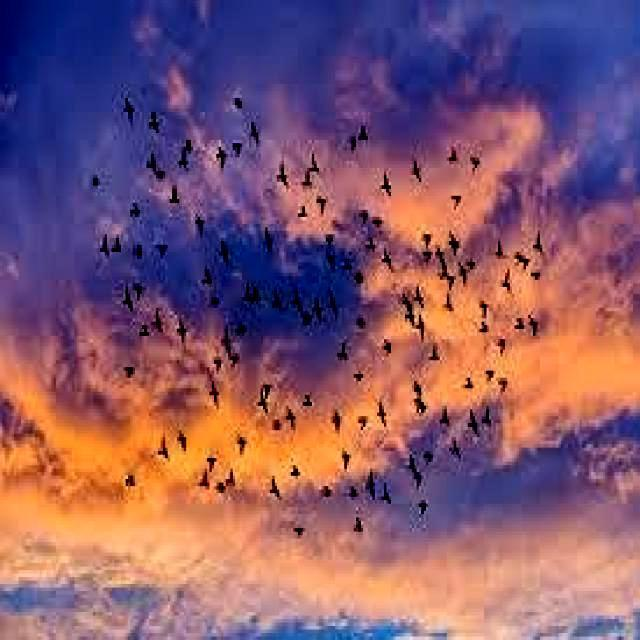bird: (145, 142, 173, 192), (236, 272, 263, 314), (428, 250, 458, 287), (204, 372, 228, 418), (338, 475, 368, 509), (525, 224, 551, 262), (328, 338, 356, 373), (325, 282, 346, 328), (445, 432, 470, 469), (94, 228, 118, 266), (308, 292, 332, 330), (464, 404, 486, 445), (244, 115, 266, 155), (258, 222, 280, 262), (495, 264, 520, 299), (214, 318, 236, 357), (420, 338, 448, 368), (121, 467, 148, 498), (325, 405, 347, 443), (171, 426, 198, 456), (262, 472, 288, 503), (250, 384, 273, 419), (410, 278, 431, 316), (444, 226, 466, 262), (488, 232, 514, 262), (268, 285, 290, 320), (375, 245, 399, 277), (404, 372, 428, 404), (211, 140, 234, 173), (288, 276, 306, 318), (406, 394, 431, 424), (468, 146, 490, 180), (348, 512, 374, 540), (444, 188, 472, 214), (149, 305, 169, 341), (416, 495, 441, 523), (174, 144, 198, 173), (193, 465, 214, 498), (342, 130, 363, 161), (375, 334, 396, 365), (195, 262, 220, 288), (316, 480, 340, 507), (380, 478, 400, 510), (234, 432, 256, 461), (414, 309, 431, 346), (262, 412, 290, 434), (458, 369, 484, 392), (276, 154, 294, 187), (119, 359, 141, 386), (282, 404, 300, 437), (322, 244, 340, 277), (525, 308, 545, 337), (454, 256, 472, 288), (438, 400, 456, 432), (515, 246, 534, 276), (193, 209, 210, 242), (294, 198, 314, 226), (341, 442, 357, 477), (364, 468, 380, 503), (495, 332, 513, 363), (125, 197, 144, 226), (290, 518, 311, 544), (439, 285, 455, 319), (314, 188, 332, 218), (229, 92, 251, 116), (224, 348, 246, 372), (153, 431, 170, 462), (285, 462, 306, 487), (306, 152, 326, 178), (90, 168, 109, 195), (147, 106, 164, 136), (355, 202, 376, 226), (398, 288, 416, 316), (528, 260, 546, 288), (360, 232, 381, 255), (378, 168, 394, 198), (119, 282, 135, 312), (412, 465, 428, 495), (444, 142, 464, 166), (154, 238, 172, 264), (300, 389, 318, 415), (419, 442, 437, 468), (351, 366, 369, 392), (302, 167, 318, 196), (208, 350, 230, 371), (418, 225, 438, 248), (401, 309, 419, 334), (217, 233, 231, 265), (354, 306, 370, 334), (176, 316, 189, 350), (354, 268, 371, 294), (495, 372, 512, 398), (352, 122, 372, 144), (208, 290, 224, 317), (122, 94, 136, 124), (410, 156, 424, 186), (376, 396, 389, 428), (320, 230, 343, 248), (214, 472, 226, 506), (474, 298, 494, 318), (478, 369, 504, 384), (372, 212, 388, 236), (355, 412, 373, 432), (225, 464, 238, 491), (478, 314, 492, 338), (509, 312, 527, 330), (230, 138, 244, 160), (418, 248, 440, 262), (404, 449, 416, 474), (201, 452, 219, 468), (170, 181, 180, 209), (184, 136, 196, 152)
